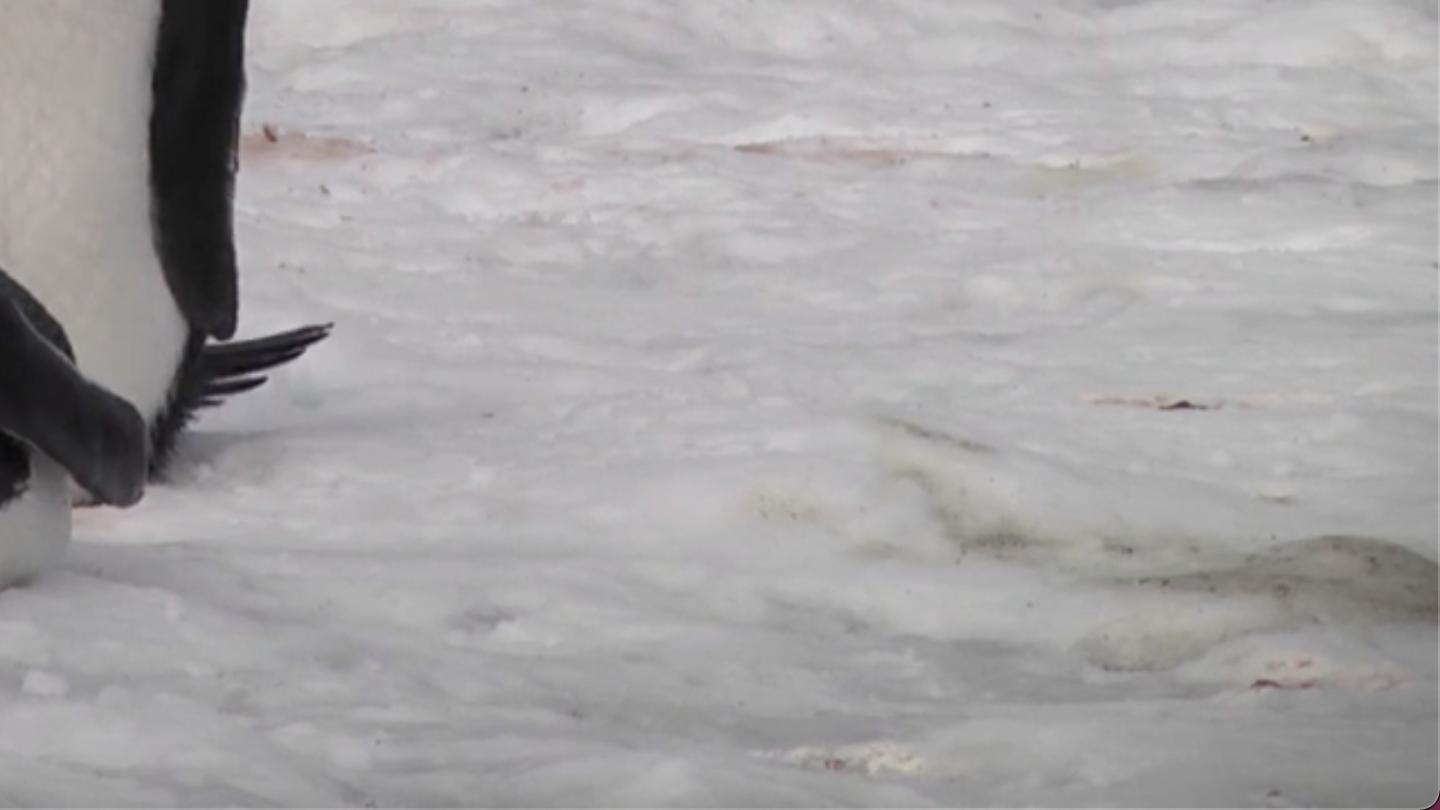Chinstrap Penguin: (0, 129, 169, 632), (0, 0, 265, 125)
